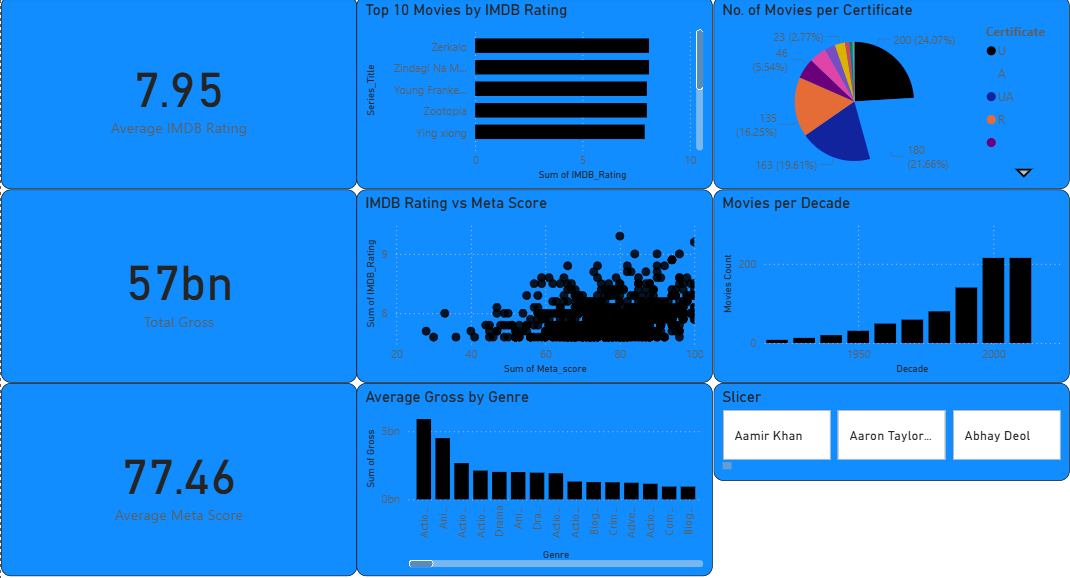

Layout of this report page (visuals, bound fields, positions):
{"tool":"powerbi","page":{"name":"Page 2","canvas":[1280,720],"ordinal":1},"visuals":[{"type":"card","fields":{"Values":["imdb_top_1000.Average IMDB Rating"]},"box":[0,0,393.1,213.5],"z":0},{"type":"card","fields":{"Values":["imdb_top_1000.Average Meta Score"]},"box":[0,427.1,393.1,213.5],"z":1000},{"type":"card","fields":{"Values":["imdb_top_1000.Total Gross"]},"box":[0,213.5,393.1,213.5],"z":2000},{"type":"barChart","title":"Top 10 Movies by IMDB Rating","fields":{"Category":["imdb_top_1000.Series_Title"],"Y":["imdb_top_1000.IMDB_Rating"]},"box":[393.1,0,393.1,213.5],"z":3000},{"type":"scatterChart","title":"IMDB Rating vs Meta Score","fields":{"X":["imdb_top_1000.Meta_score"],"Y":["imdb_top_1000.IMDB_Rating"],"Category":["imdb_top_1000.Series_Title"]},"box":[393.1,213.5,393.1,213.5],"z":4000},{"type":"columnChart","title":"Average Gross by Genre","fields":{"Category":["imdb_top_1000.Genre"],"Y":["imdb_top_1000.Gross"]},"box":[393.1,427.1,393.1,213.5],"z":5000},{"type":"pieChart","title":"No. of Movies per Certificate","fields":{"Y":["imdb_top_1000.Movies Count"],"Category":["imdb_top_1000.Certificate"]},"box":[786.1,0,393.1,213.5],"z":6000},{"type":"clusteredColumnChart","title":"Movies per Decade","fields":{"Category":["imdb_top_1000.Decade"],"Y":["imdb_top_1000.Movies Count"]},"box":[786.1,213.5,393.1,213.5],"z":7000},{"type":"advancedSlicerVisual","title":"Slicer","fields":{"Values":["imdb_top_1000.Star1"]},"box":[786.1,427.1,393.1,107.7],"z":8000}]}

Visuals, with their boxes on the page's 1280x720 design canvas (x1, y1, x2, y2). These are canvas units, not pixel positions in the 1070x578 screenshot, which may show the page scaled, cropped or inside an application window:
card - imdb_top_1000.Average IMDB Rating: [0,0,393,214]
card - imdb_top_1000.Average Meta Score: [0,427,393,641]
card - imdb_top_1000.Total Gross: [0,214,393,427]
"Top 10 Movies by IMDB Rating" barChart: [393,0,786,214]
"IMDB Rating vs Meta Score" scatterChart: [393,214,786,427]
"Average Gross by Genre" columnChart: [393,427,786,641]
"No. of Movies per Certificate" pieChart: [786,0,1179,214]
"Movies per Decade" clusteredColumnChart: [786,214,1179,427]
"Slicer" advancedSlicerVisual: [786,427,1179,535]
